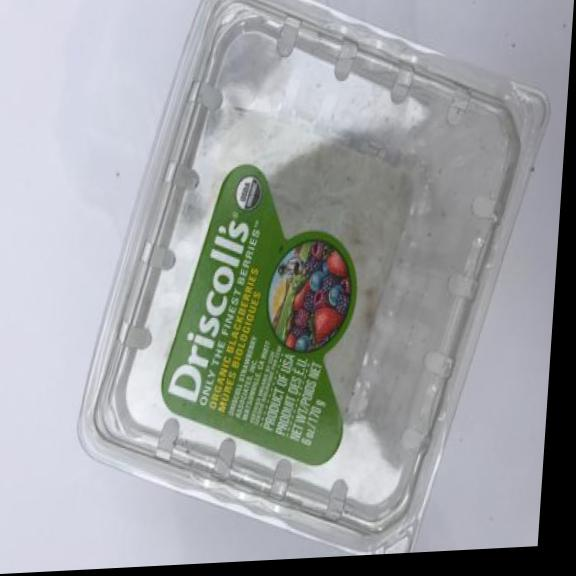Plastik: (59, 0, 562, 571)
